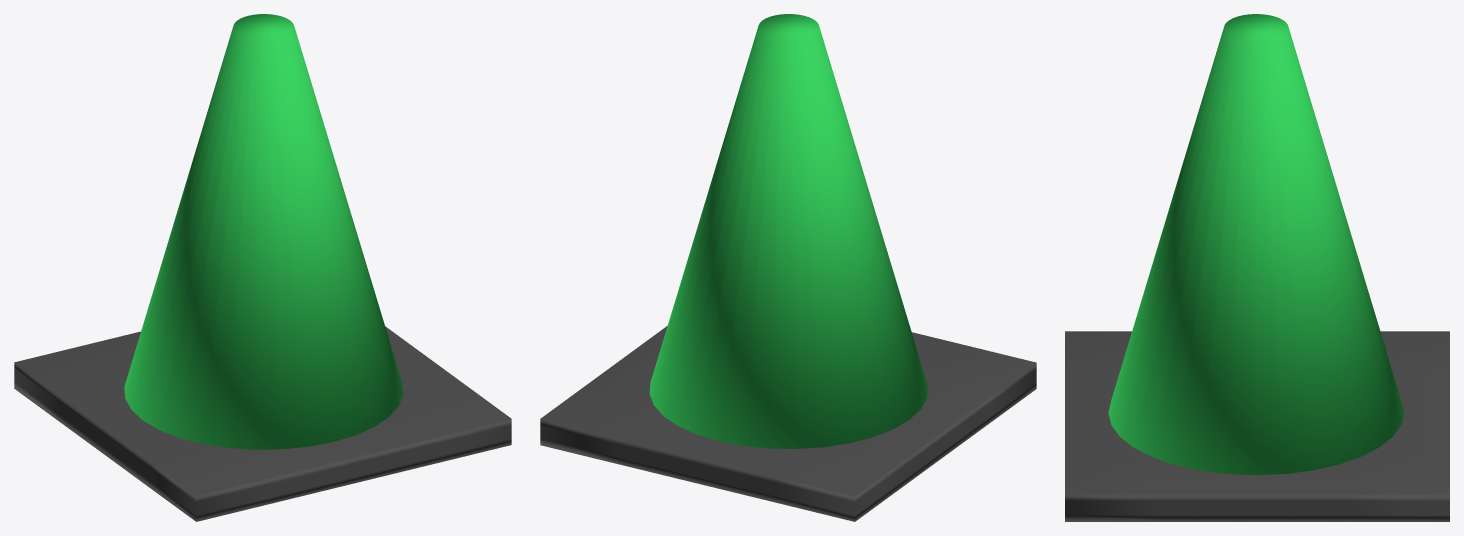
The picture shows the model from 3 angles, left to right: view 1: azimuth 30°, elevation 25°; view 2: azimuth 150°, elevation 25°; view 3: azimuth 270°, elevation 25°; orthographic projection. The views are drawn at different scales.
Parts seen in each view (by area): view 1: Cylinder, Cube; view 2: Cylinder, Cube; view 3: Cylinder, Cube.
Boxes of the visible parts, bbox=[...] form: Cylinder: bbox=[124, 14, 403, 449]; Cube: bbox=[14, 326, 511, 521]; Cylinder: bbox=[649, 14, 927, 448]; Cube: bbox=[540, 326, 1036, 521]; Cylinder: bbox=[1108, 14, 1403, 475]; Cube: bbox=[1065, 331, 1449, 521].
Size of the model in its own units: 248 by 294 by 248.
